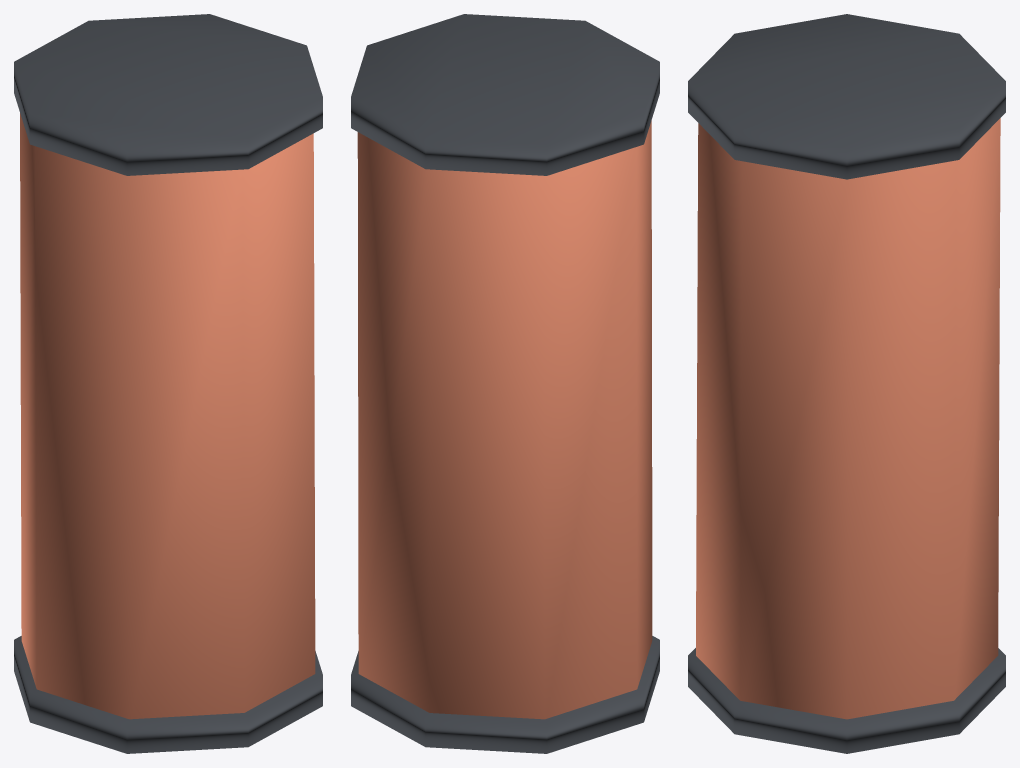
File: SubGene_Orean.fbx
The picture shows the model from 3 angles, left to right: view 1: azimuth 30°, elevation 25°; view 2: azimuth 150°, elevation 25°; view 3: azimuth 270°, elevation 25°; orthographic projection.
Parts seen in each view (by area): view 1: pCylinder1, pCylinder2, pCylinder3; view 2: pCylinder1, pCylinder2, pCylinder3; view 3: pCylinder1, pCylinder2, pCylinder3.
Part boxes in pixels (x1,y1,x2,y2): pCylinder1: (20, 113, 315, 719); pCylinder2: (14, 14, 322, 175); pCylinder3: (14, 636, 322, 753); pCylinder1: (357, 120, 652, 719); pCylinder2: (351, 14, 659, 175); pCylinder3: (351, 636, 659, 753); pCylinder1: (696, 118, 1000, 719); pCylinder2: (688, 14, 1005, 179); pCylinder3: (688, 648, 1005, 753).
Bounding box in the file's own units: 1.16 × 2.44 × 1.16.
